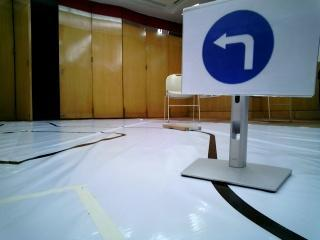left: (198, 5, 302, 93), (259, 169, 260, 169)
